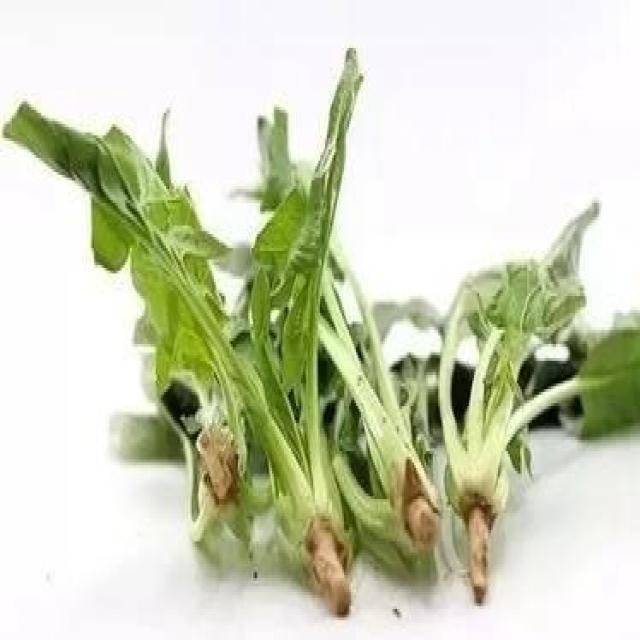-Kitchen waste - vegetable roots and leaves-: (11, 105, 246, 505), (255, 120, 433, 537), (437, 207, 636, 564), (238, 43, 366, 590)
